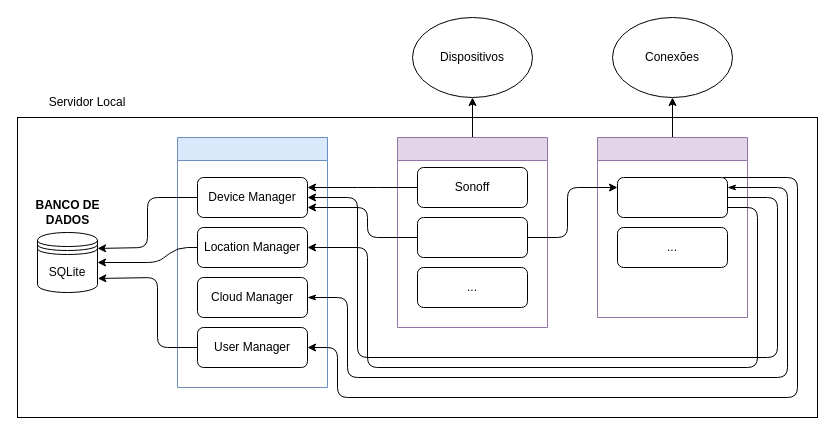
The diagram is 835 pixels wide and 435 high, and some of its shapes have lost their labels. The box of each missing label's shape, as (x1, y1, x2, y2) in pixels:
DRIVERS: (396, 136, 548, 328)
INTERFACES: (596, 136, 748, 318)
MANAGERS: (176, 136, 328, 388)
MQTT: (616, 176, 728, 218)
Tasmota: (416, 216, 528, 258)
